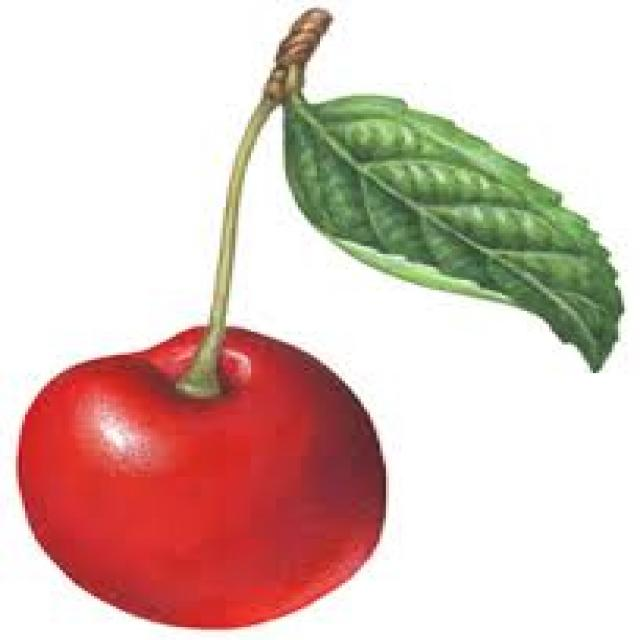organic waste: (12, 319, 386, 627), (280, 78, 624, 373)
